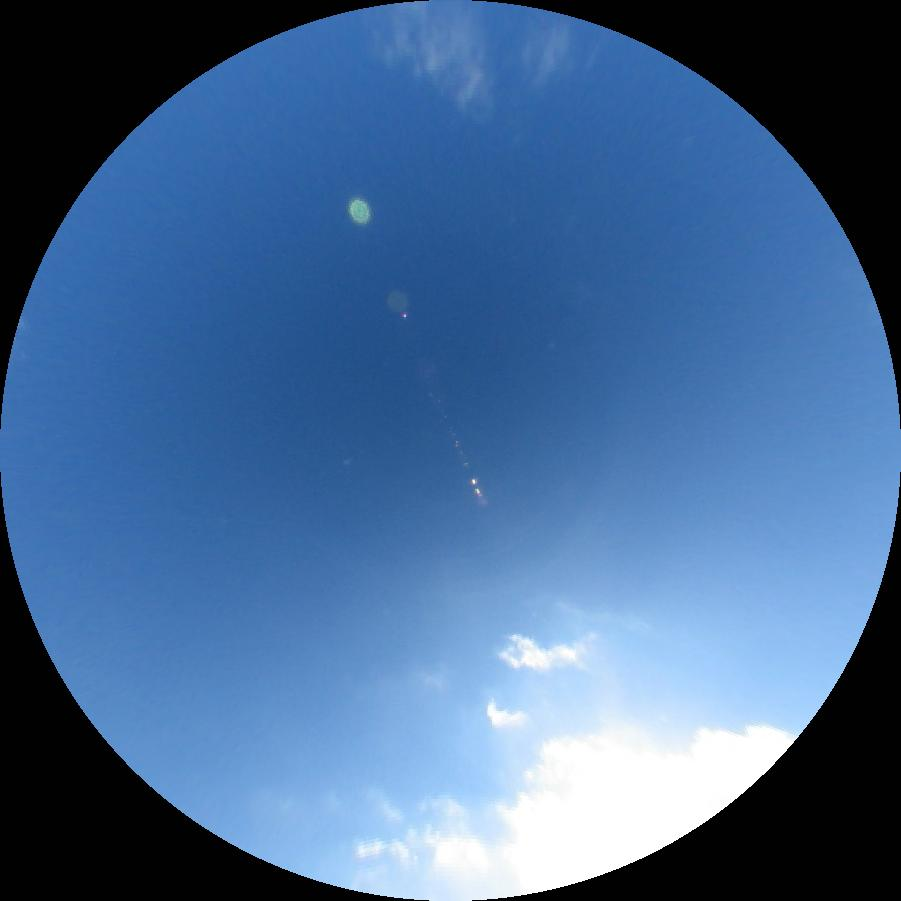sun: (556, 756, 735, 887)
